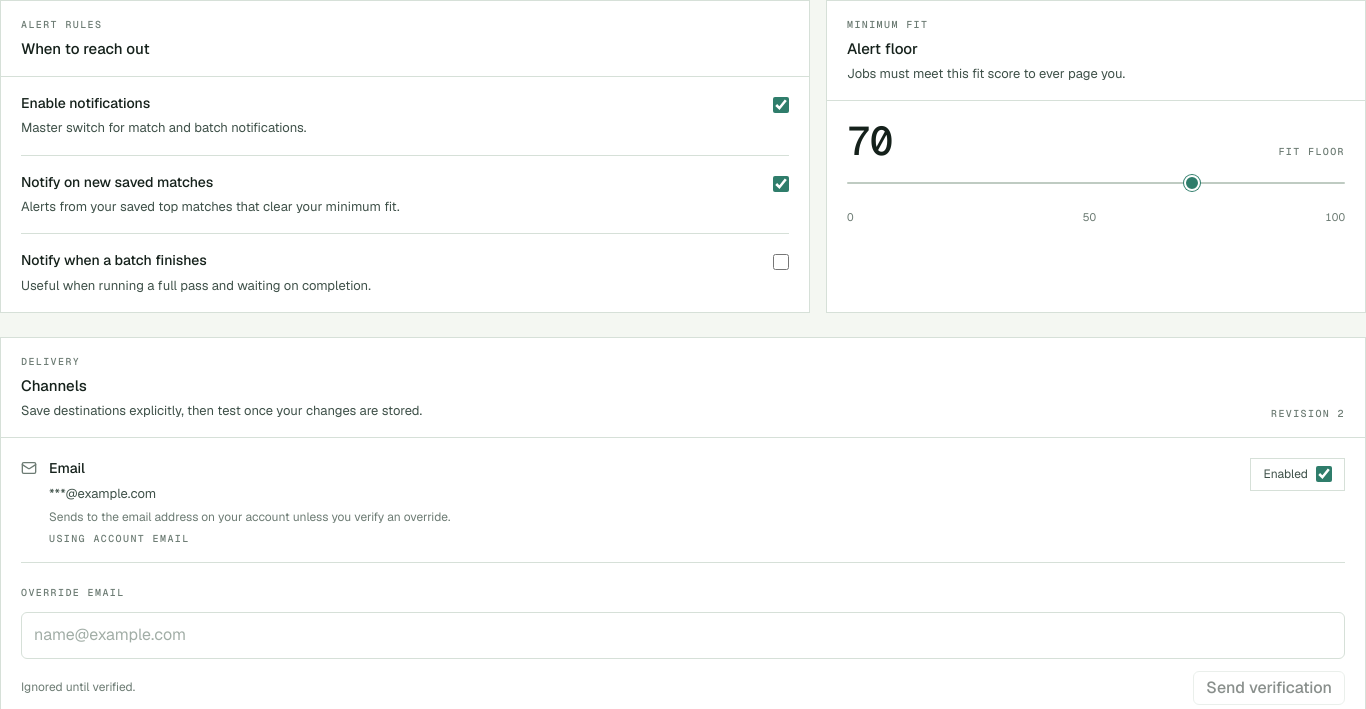
Test case: NotificationSettingsPanel › disables test actions while there are unsaved changes
Set the slider named "Minimum fit for alerts" to "71". click: (1197, 183)
box: x1=847 y1=173 x2=1345 y2=193
(page scrolled)
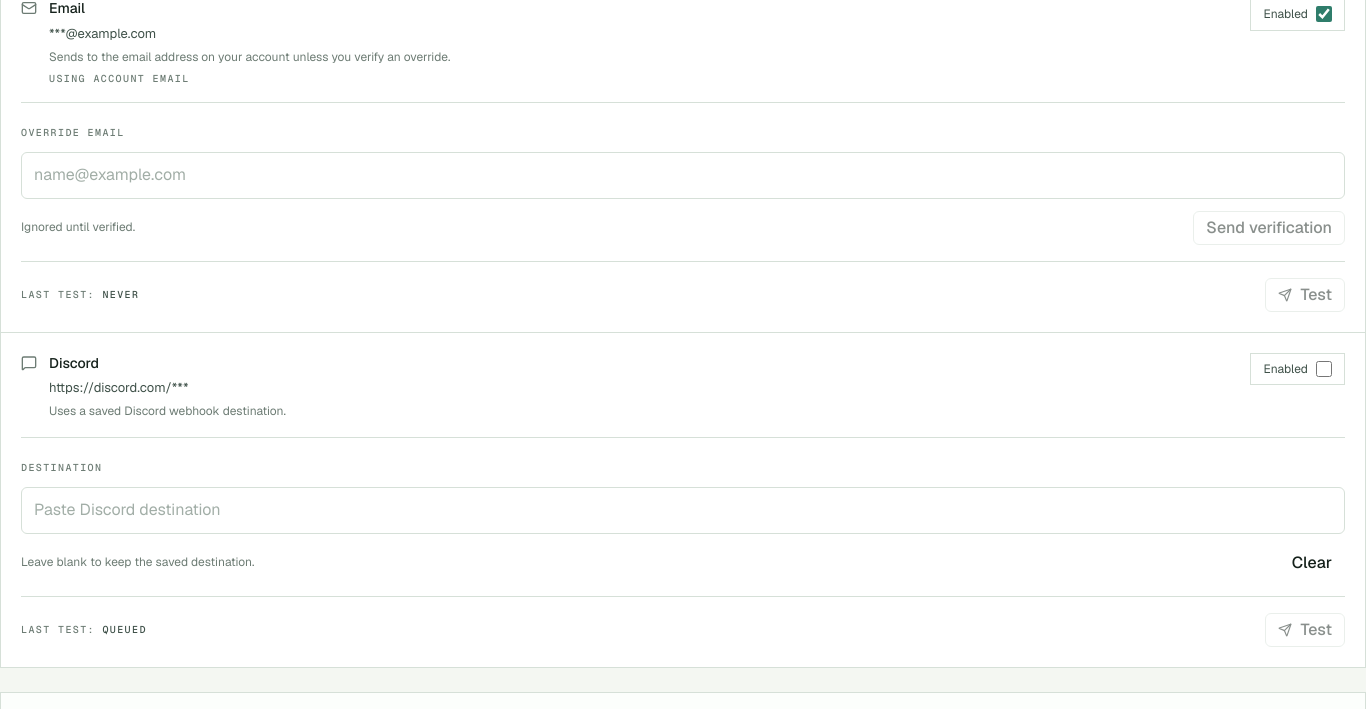
Now the button "Test" in the row of "Never" is disabled, box x1=1265 y1=278 x2=1345 y2=312
Now the button "Test" in the row of "queued" is disabled, box x1=1265 y1=613 x2=1345 y2=647
